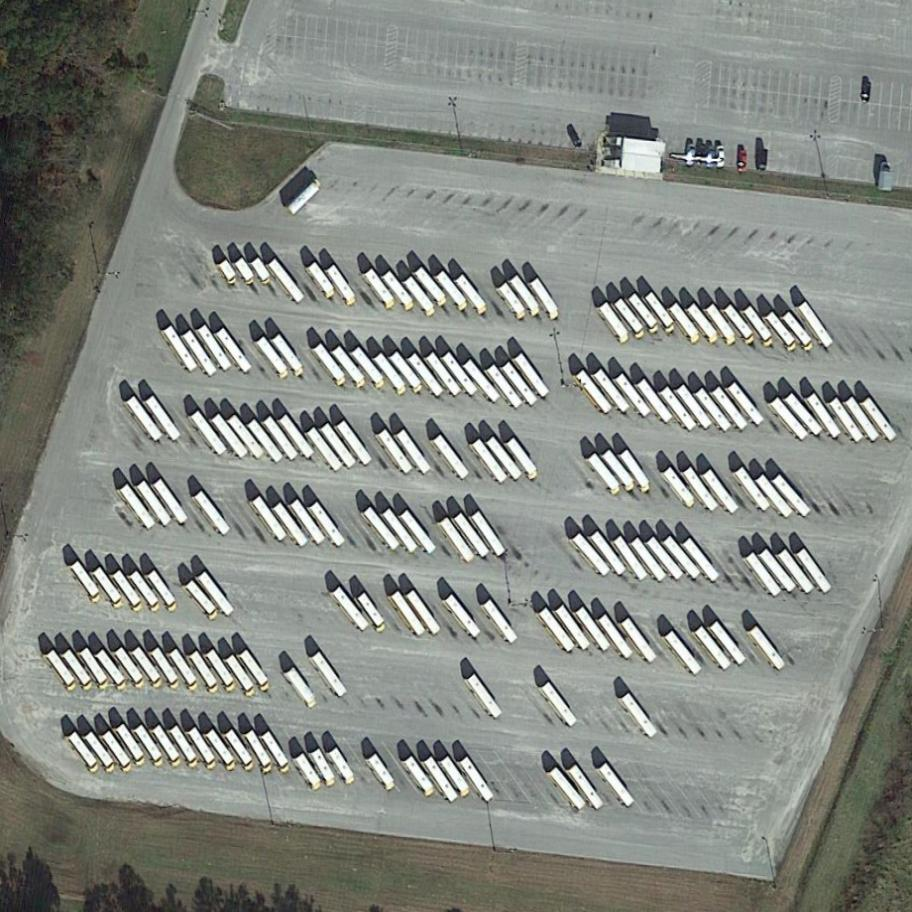large-vehicle: (362, 506, 403, 553), (664, 630, 705, 676), (398, 508, 438, 555), (210, 413, 250, 460), (289, 498, 328, 546), (197, 323, 234, 373), (694, 626, 735, 671), (319, 424, 359, 470), (226, 414, 266, 460), (771, 396, 811, 442), (659, 386, 699, 432), (796, 547, 835, 594), (621, 618, 660, 665), (311, 651, 349, 699), (216, 327, 254, 375), (263, 414, 301, 462), (798, 301, 836, 349), (806, 392, 844, 440), (463, 359, 503, 404), (486, 435, 525, 481), (197, 572, 236, 618), (267, 258, 306, 304), (306, 427, 345, 473), (501, 361, 540, 407), (486, 364, 525, 410), (541, 681, 580, 727), (630, 537, 669, 583), (636, 378, 675, 424), (470, 510, 508, 557), (377, 429, 415, 476), (309, 501, 347, 548), (272, 501, 310, 548), (194, 490, 232, 537), (152, 478, 190, 525), (555, 604, 593, 651), (703, 468, 741, 515), (829, 397, 867, 444), (735, 466, 773, 513), (785, 393, 826, 436), (727, 382, 767, 426), (755, 474, 795, 518), (247, 419, 286, 464), (407, 352, 446, 397), (372, 351, 411, 396), (349, 346, 388, 391), (759, 548, 798, 593), (695, 388, 734, 433), (593, 368, 632, 413), (433, 434, 471, 480), (382, 508, 420, 554), (251, 496, 289, 542), (336, 420, 374, 466), (278, 414, 316, 460), (514, 352, 552, 398), (442, 351, 480, 397), (426, 351, 464, 397), (676, 384, 714, 430), (472, 438, 509, 485), (406, 589, 443, 636), (136, 480, 173, 527), (459, 756, 496, 803), (397, 428, 433, 476), (572, 534, 612, 577), (773, 474, 813, 517), (453, 513, 491, 558), (119, 485, 157, 530), (483, 600, 521, 645), (445, 594, 483, 639), (332, 586, 370, 631), (190, 410, 228, 455), (126, 396, 164, 441), (599, 763, 637, 808), (778, 549, 816, 594), (745, 553, 783, 598), (750, 626, 788, 671), (712, 386, 750, 431), (391, 591, 428, 637), (145, 395, 182, 441), (622, 693, 659, 739), (568, 764, 605, 810), (467, 674, 504, 720), (683, 467, 720, 513), (862, 396, 899, 442), (845, 396, 882, 442), (183, 330, 219, 377), (163, 326, 199, 373), (424, 756, 460, 803), (380, 270, 419, 313), (312, 344, 350, 388), (331, 345, 369, 389), (539, 608, 577, 652), (683, 538, 721, 582), (664, 536, 702, 580), (647, 537, 685, 581), (590, 532, 628, 576), (710, 622, 748, 666), (271, 333, 308, 378), (575, 607, 612, 652), (613, 535, 649, 581), (549, 767, 587, 810), (615, 374, 653, 417), (454, 273, 491, 317), (255, 336, 292, 380), (576, 370, 613, 414), (440, 518, 476, 563), (147, 569, 183, 614), (598, 614, 634, 659), (413, 266, 450, 309), (389, 351, 426, 394), (402, 275, 438, 319), (184, 580, 221, 622), (505, 438, 541, 481), (91, 567, 127, 610), (83, 731, 119, 774), (602, 450, 638, 493), (588, 453, 624, 496), (645, 291, 680, 335), (284, 667, 320, 709), (95, 650, 131, 692), (435, 270, 471, 312), (238, 649, 273, 692), (45, 649, 80, 692), (133, 725, 168, 768), (668, 302, 703, 345), (619, 450, 654, 493), (112, 570, 146, 614), (205, 649, 239, 693), (782, 311, 818, 352), (613, 298, 649, 339), (663, 467, 699, 508), (129, 571, 164, 613), (131, 647, 166, 689), (743, 305, 778, 347), (687, 302, 722, 344), (114, 646, 148, 689), (61, 649, 95, 692), (528, 278, 562, 321), (364, 267, 398, 310), (115, 724, 149, 767), (705, 303, 739, 346), (70, 562, 104, 604), (509, 275, 543, 317), (68, 732, 102, 774), (168, 649, 201, 692), (224, 728, 257, 771), (102, 730, 135, 773), (189, 651, 222, 694), (151, 646, 183, 690), (79, 647, 111, 691), (766, 311, 801, 351), (628, 293, 663, 333), (205, 730, 239, 771), (261, 731, 294, 773), (598, 302, 631, 344), (327, 265, 359, 308), (188, 727, 220, 770), (152, 725, 184, 768), (287, 178, 324, 215), (225, 656, 258, 697), (724, 304, 757, 345), (404, 755, 437, 796), (169, 726, 201, 768), (244, 730, 275, 773), (357, 593, 389, 633), (441, 756, 472, 797), (498, 283, 530, 321), (308, 262, 338, 300), (295, 753, 325, 791), (327, 748, 357, 786), (368, 753, 398, 790), (311, 749, 338, 788)
small-vehicle: (234, 257, 258, 286), (251, 257, 273, 285), (218, 260, 240, 286), (858, 78, 874, 104), (566, 125, 583, 149), (683, 143, 698, 167), (694, 143, 708, 166), (738, 149, 751, 172), (756, 149, 769, 171), (706, 143, 717, 169), (718, 145, 727, 169)
